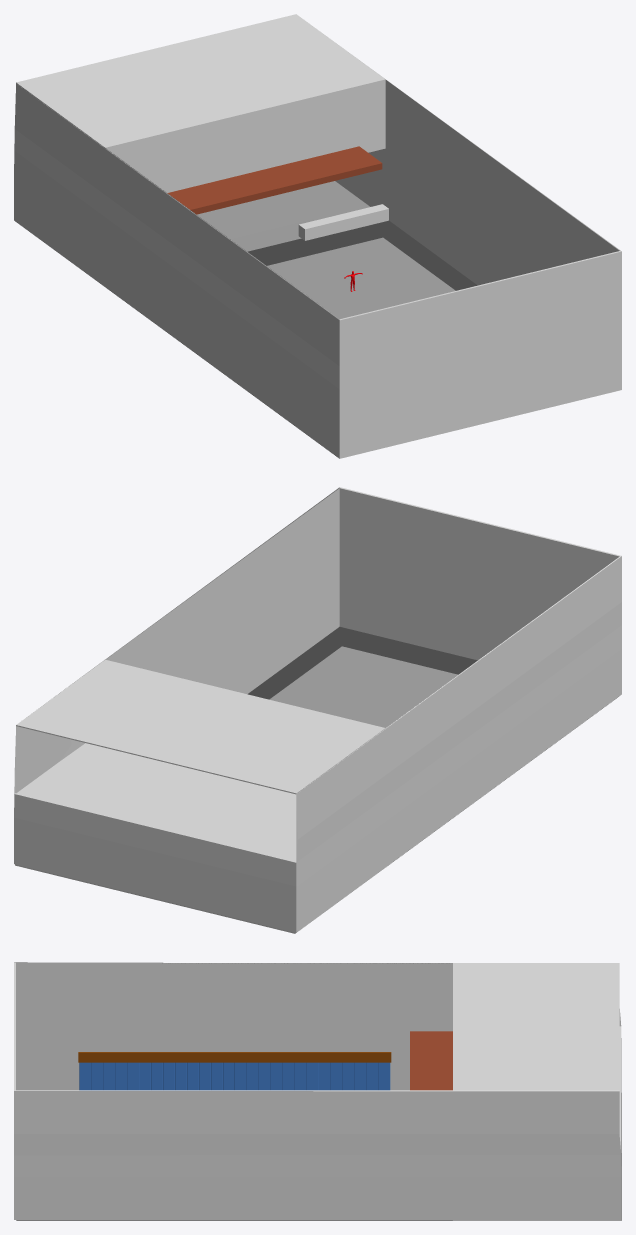
File: Dojo.fbx
3 views of the same model, one above another, from view 1: azimuth 30°, elevation 25°; view 2: azimuth 150°, elevation 25°; view 3: azimuth 270°, elevation 25° (orthographic). The views are drawn at different scales.
Visible parts, largest first — view 1: Dojo, Dojo.001, Shelf, Cube; view 2: Dojo, Dojo.001; view 3: Dojo, Wall Cushion, Wooden Beam, Shelf, Dojo.001.
Part boxes in pixels (x1,y1,x2,y2): Dojo: [14, 14, 621, 458]; Dojo.001: [15, 181, 477, 456]; Shelf: [167, 146, 382, 214]; Cube: [298, 204, 388, 240]; Dojo: [14, 487, 621, 932]; Dojo.001: [15, 626, 616, 933]; Dojo: [14, 962, 621, 1219]; Wall Cushion: [79, 1062, 390, 1090]; Wooden Beam: [78, 1052, 391, 1062]; Shelf: [410, 1031, 452, 1090]; Dojo.001: [16, 1093, 621, 1220].
Bounding box in the file's own units: 5050 × 2381 × 10076.
